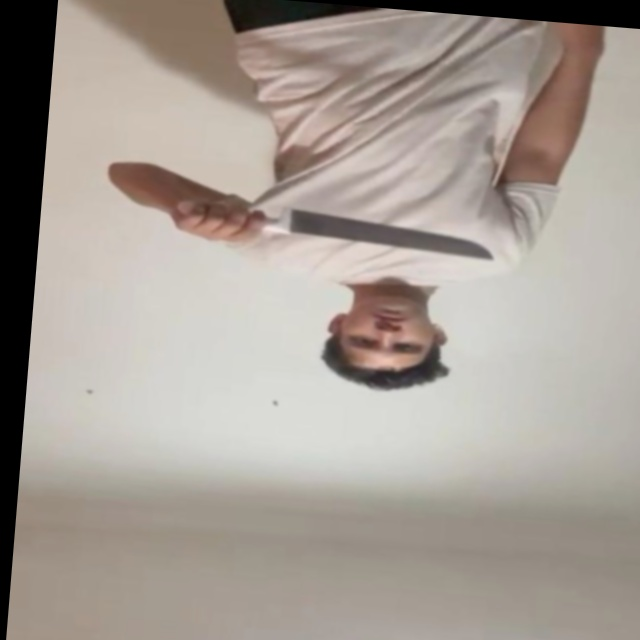Sharp-Object: (288, 206, 497, 267)
